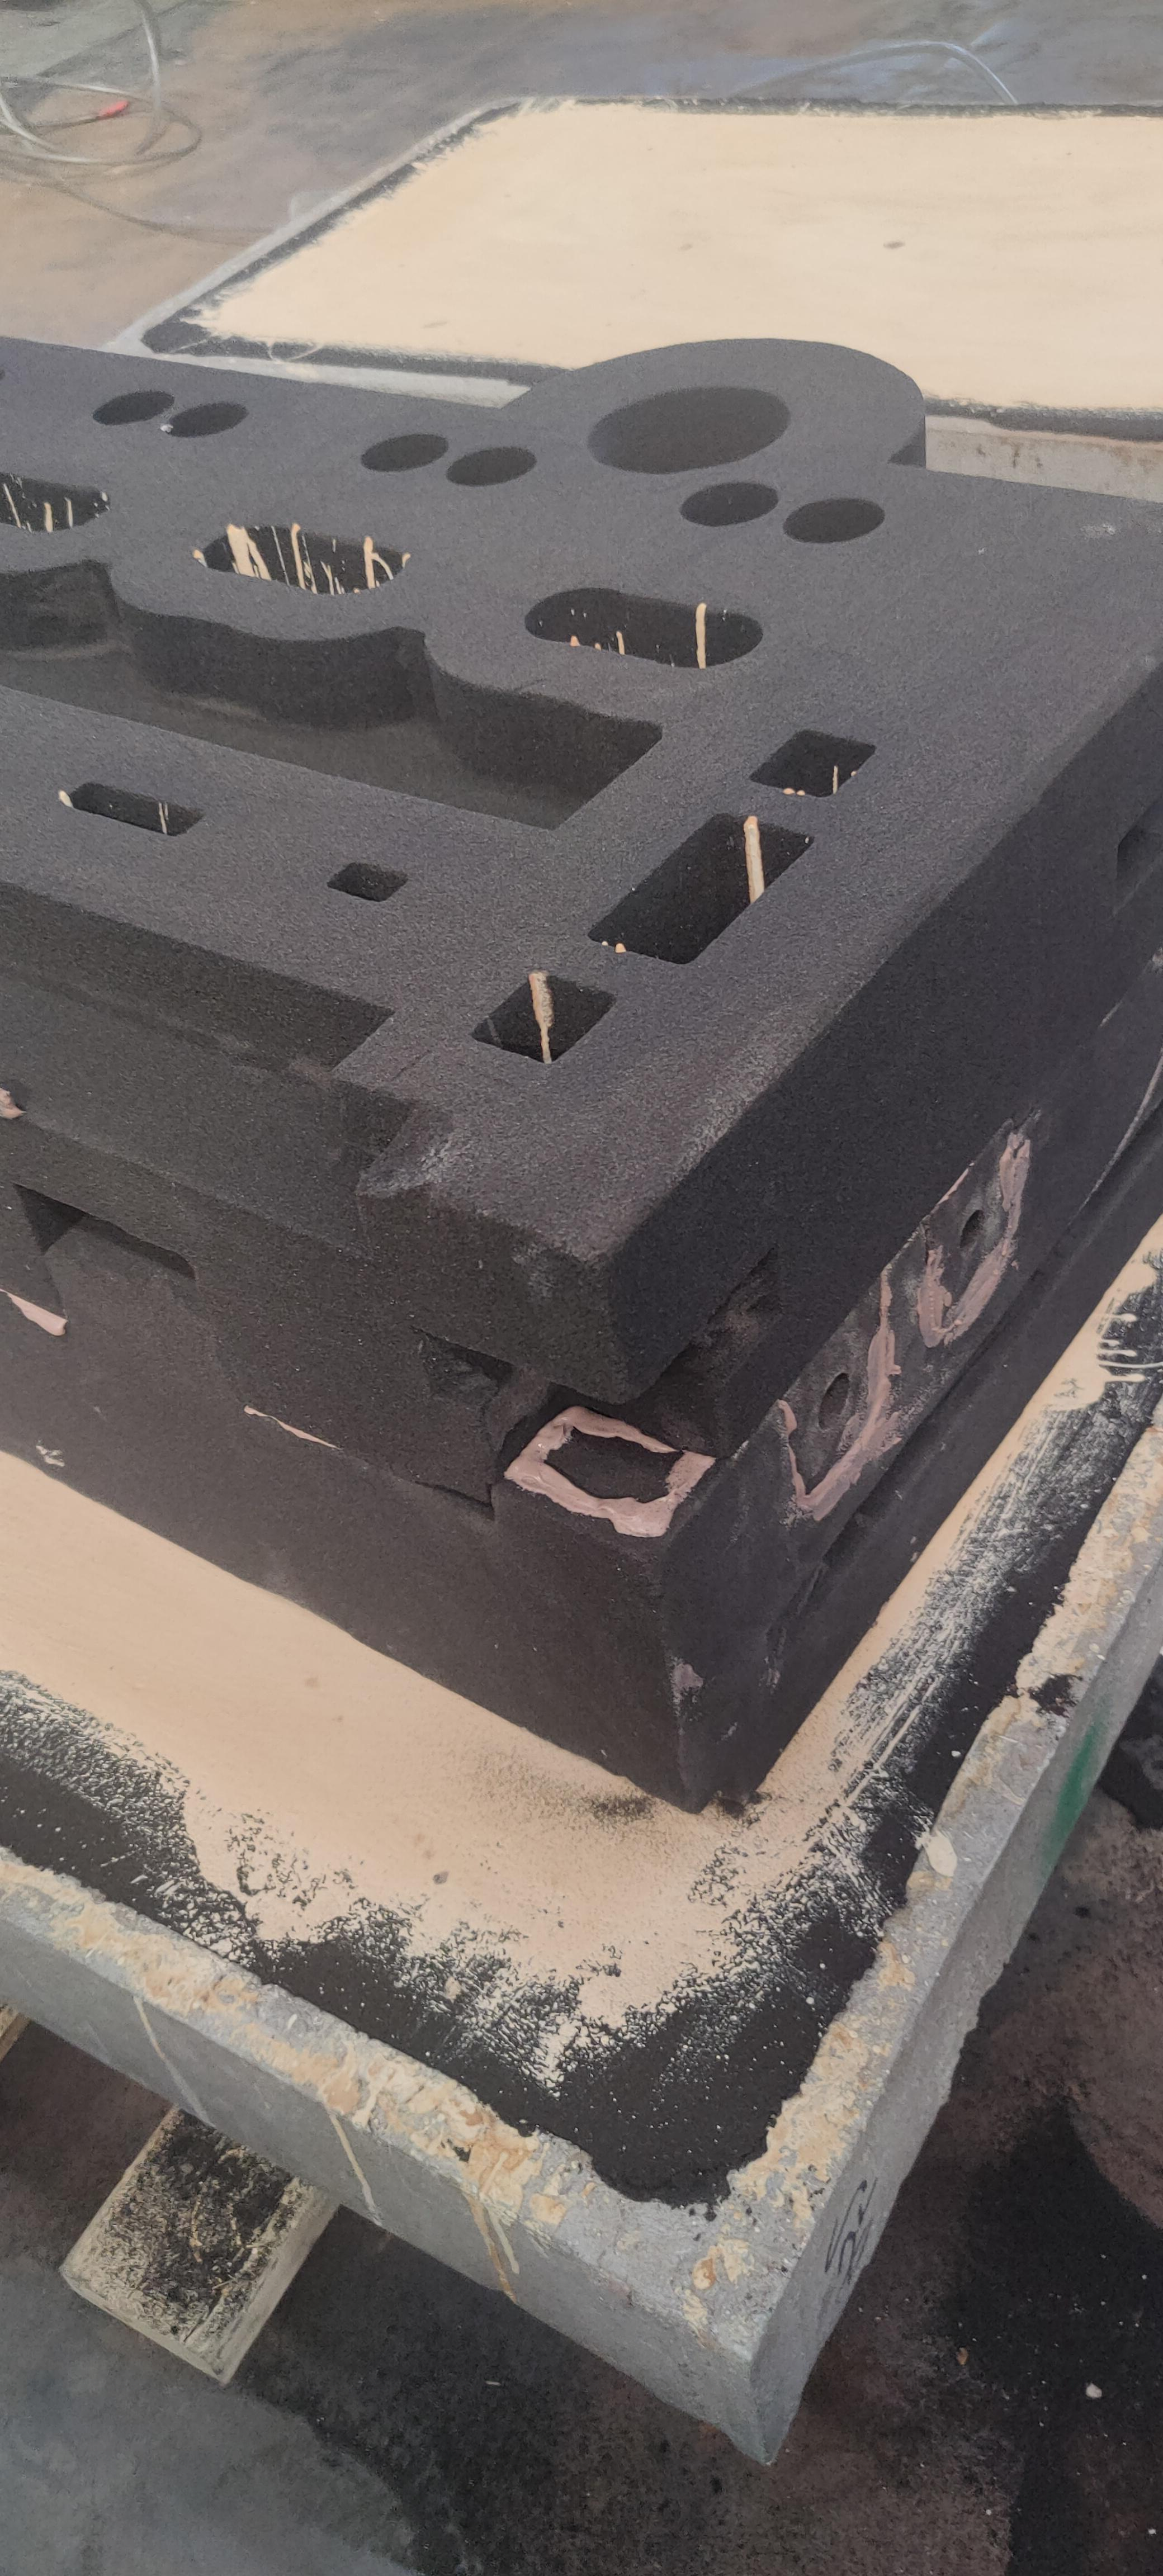pouring hole: (580, 383, 795, 475)
